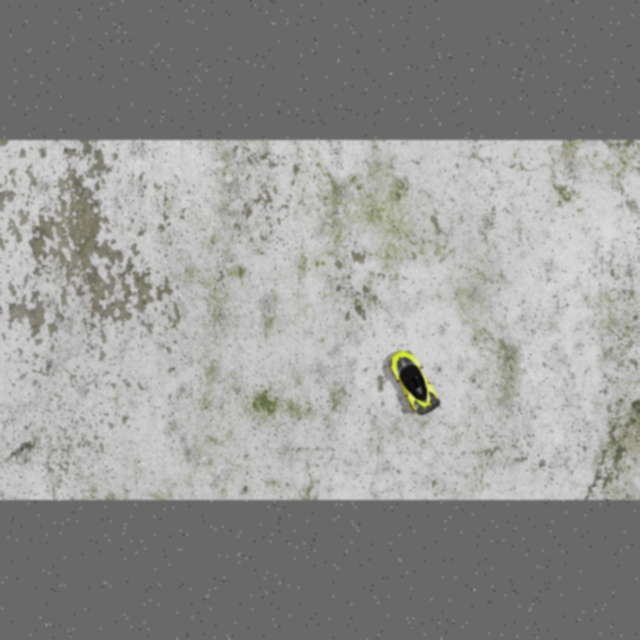car: (382, 345, 444, 420)
